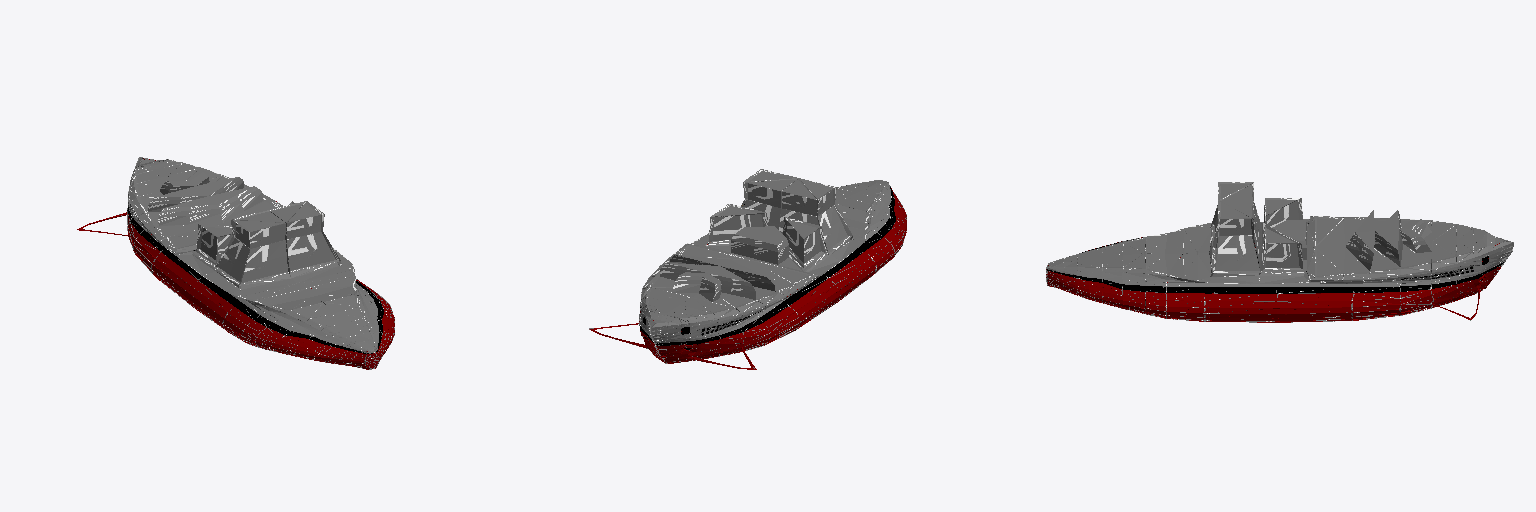
3 renders of one model, left to right at view 1: azimuth 30°, elevation 25°; view 2: azimuth 150°, elevation 25°; view 3: azimuth 270°, elevation 25°, orthographic.
Bounding box in the file's own units: 89.22 × 55.59 × 213.
Materials: 2 (1 with a texture image).